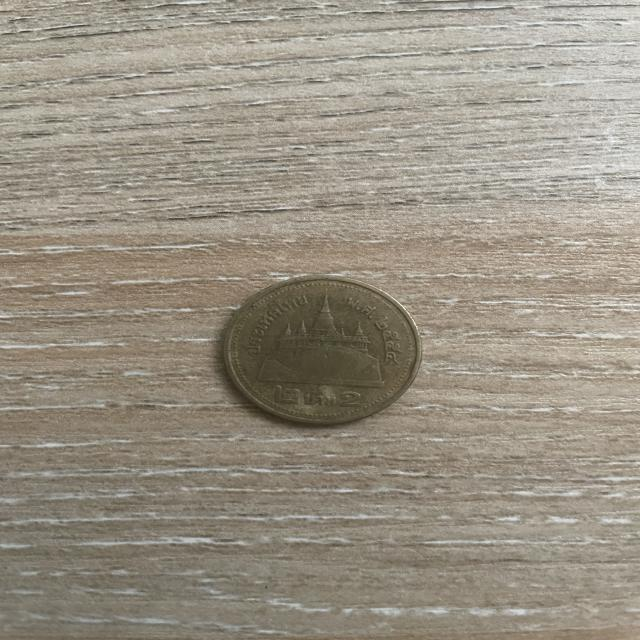2 Bath: (209, 268, 430, 438)
